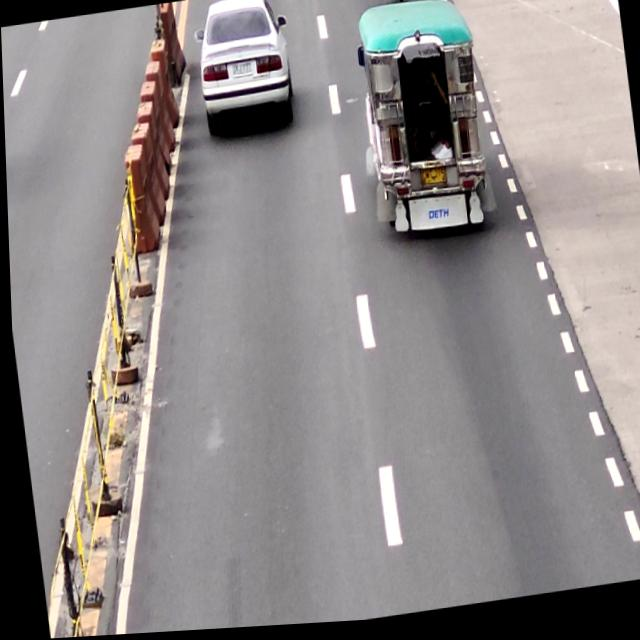Car: (191, 0, 298, 139)
Jeep: (352, 0, 493, 252)
License-Plate: (418, 172, 446, 193), (229, 62, 253, 79)
